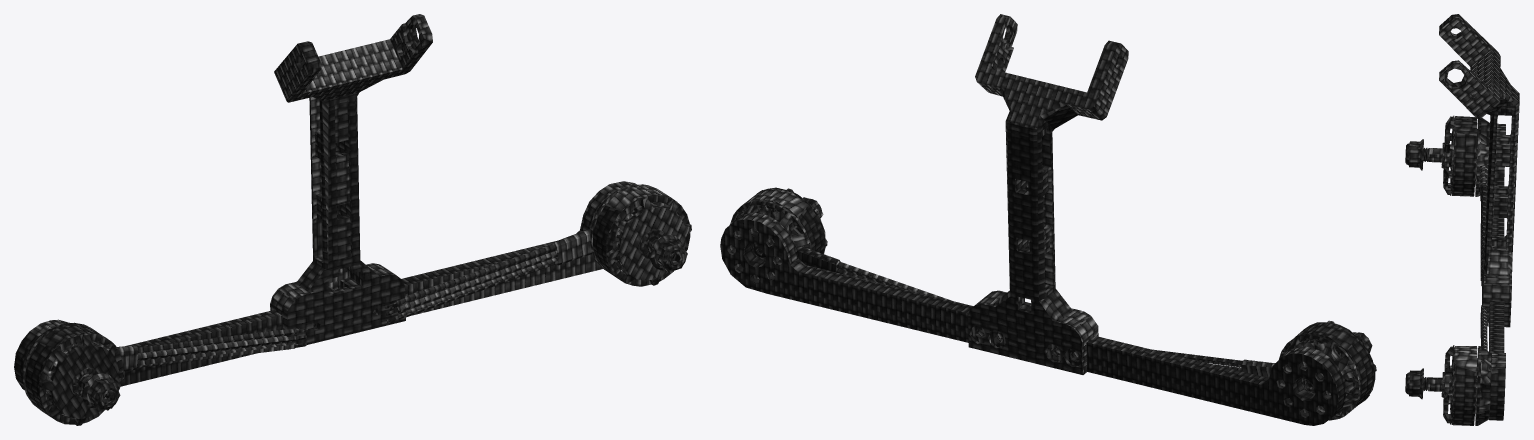
Rendered from arm_left_colored.dae.
3 views of the same model, side by side, from view 1: azimuth 30°, elevation 25°; view 2: azimuth 150°, elevation 25°; view 3: azimuth 270°, elevation 25° (orthographic). The views are drawn at different scales.
Visible parts, largest first — view 1: arm_left; view 2: arm_left; view 3: arm_left.
Part boxes in pixels (bbox=[...]): arm_left: bbox=[14, 14, 691, 425]; arm_left: bbox=[720, 14, 1376, 425]; arm_left: bbox=[1405, 14, 1519, 425].
Size of the model in its own units: 0.2202 by 0.0404 by 0.1047.
1 material, 1 textured.
